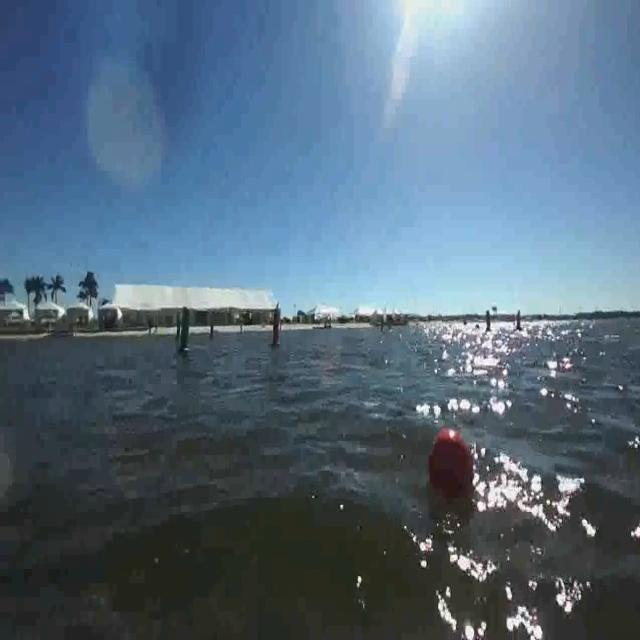green-column-buoy: (176, 311, 192, 357)
red-buoy: (428, 426, 478, 502)
red-column-buoy: (271, 310, 284, 347)
